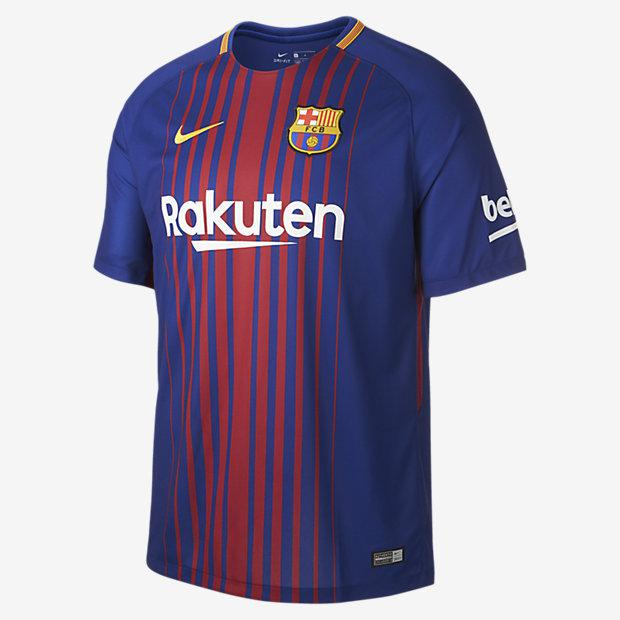teeshirt: (86, 12, 544, 596)
